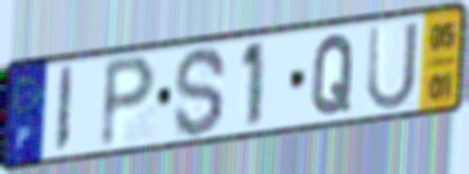1: (239, 38, 268, 130)
I: (52, 62, 76, 157)
P: (97, 53, 159, 153)
Q: (309, 32, 357, 119)
S: (171, 43, 230, 140)
U: (365, 17, 421, 114)
